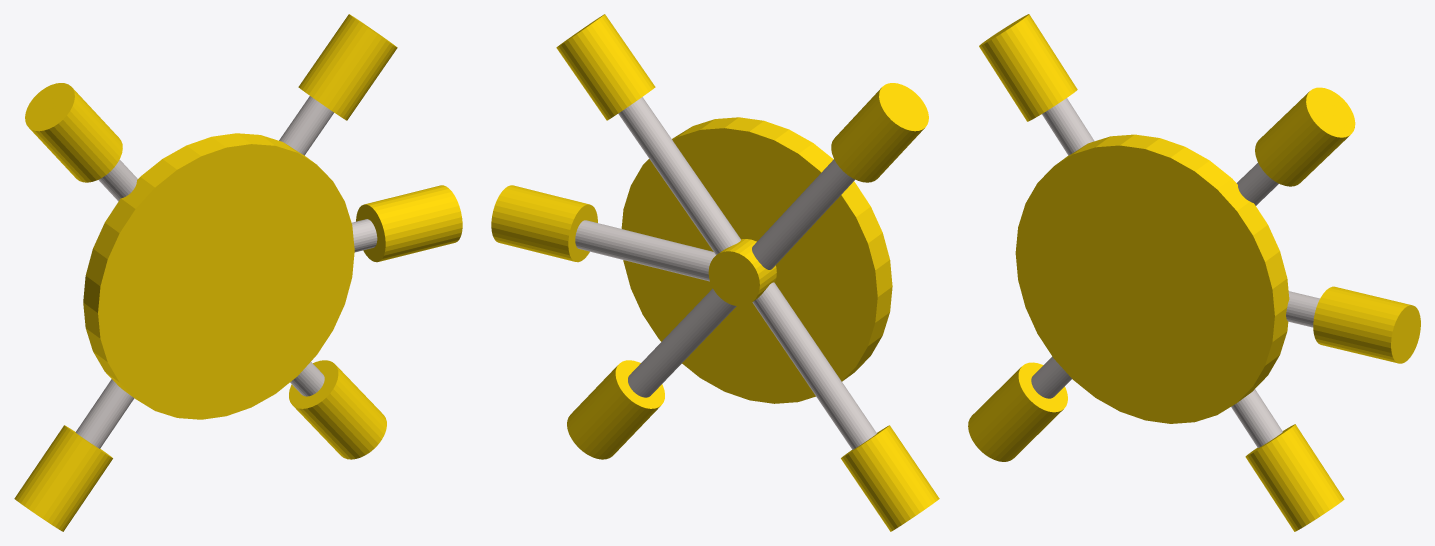
Rendered from VaultDoor.fbx.
The picture shows the model from 3 angles, left to right: view 1: azimuth 30°, elevation 25°; view 2: azimuth 150°, elevation 25°; view 3: azimuth 330°, elevation 25°; orthographic projection.
Visible parts, largest first — view 1: Cylinder, Cylinder.004, Cylinder.010, Cylinder.001, Cylinder.008, Cylinder.005, Cylinder.007, Cylinder.002, Cylinder.003, Cylinder.006, Cylinder.009; view 2: Cylinder, Cylinder.004, Cylinder.010, Cylinder.007, Cylinder.001, Cylinder.008, Cylinder.002, Cylinder.005, Cylinder.009, Cylinder.006, Cylinder.003, Cylinder.011; view 3: Cylinder, Cylinder.010, Cylinder.001, Cylinder.004, Cylinder.005, Cylinder.008, Cylinder.006, Cylinder.003, Cylinder.007, Cylinder.002, Cylinder.009.
Part boxes in pixels (left/top/right/bottom): Cylinder: left=83, top=133, right=354, bottom=419; Cylinder.004: left=25, top=83, right=122, bottom=182; Cylinder.010: left=356, top=185, right=462, bottom=262; Cylinder.001: left=298, top=14, right=397, bottom=120; Cylinder.008: left=14, top=425, right=112, bottom=531; Cylinder.005: left=289, top=360, right=386, bottom=459; Cylinder.007: left=75, top=379, right=134, bottom=448; Cylinder.002: left=279, top=96, right=333, bottom=155; Cylinder.003: left=98, top=159, right=137, bottom=201; Cylinder.006: left=290, top=362, right=324, bottom=396; Cylinder.009: left=351, top=219, right=377, bottom=252; Cylinder: left=621, top=117, right=892, bottom=403; Cylinder.004: left=831, top=83, right=928, bottom=182; Cylinder.010: left=491, top=185, right=597, bottom=262; Cylinder.007: left=752, top=282, right=876, bottom=449; Cylinder.001: left=556, top=14, right=655, bottom=120; Cylinder.008: left=841, top=425, right=939, bottom=531; Cylinder.002: left=618, top=97, right=740, bottom=254; Cylinder.005: left=567, top=360, right=664, bottom=459; Cylinder.009: left=575, top=220, right=715, bottom=281; Cylinder.006: left=628, top=288, right=736, bottom=397; Cylinder.003: left=752, top=159, right=854, bottom=269; Cylinder.011: left=708, top=239, right=776, bottom=306; Cylinder: left=1015, top=134, right=1289, bottom=423; Cylinder.010: left=1313, top=286, right=1420, bottom=363; Cylinder.001: left=1255, top=87, right=1355, bottom=186; Cylinder.004: left=979, top=14, right=1077, bottom=121; Cylinder.005: left=1245, top=424, right=1344, bottom=531; Cylinder.008: left=968, top=362, right=1067, bottom=461; Cylinder.006: left=1231, top=389, right=1282, bottom=447; Cylinder.003: left=1042, top=98, right=1094, bottom=155; Cylinder.007: left=1031, top=356, right=1071, bottom=398; Cylinder.002: left=1236, top=163, right=1278, bottom=205; Cylinder.009: left=1286, top=291, right=1319, bottom=327.
Size of the model in its own units: 334 by 327 by 44.61.
